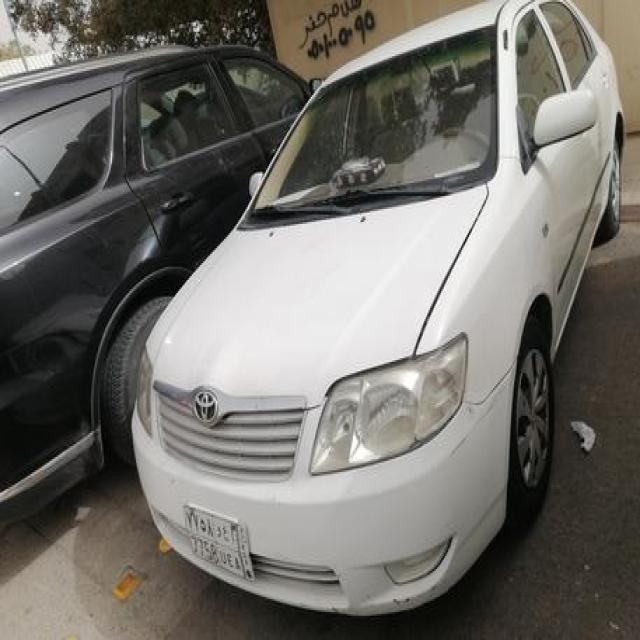license_plate: (171, 489, 256, 586)
